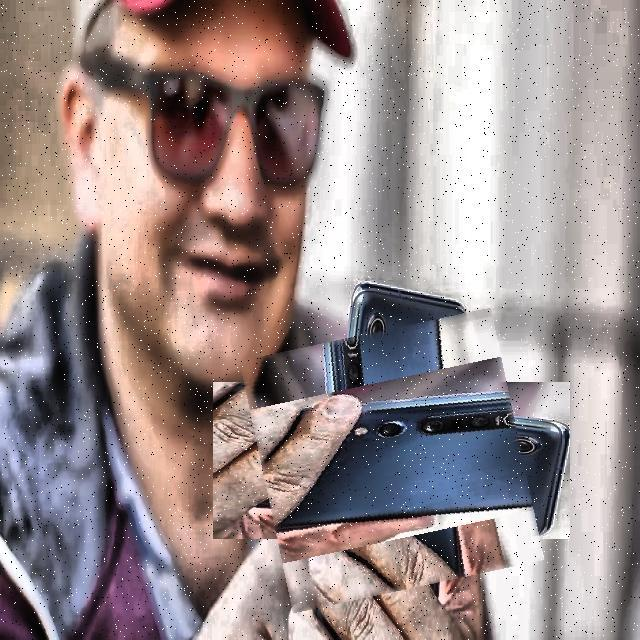Phone: (251, 320, 532, 602)
